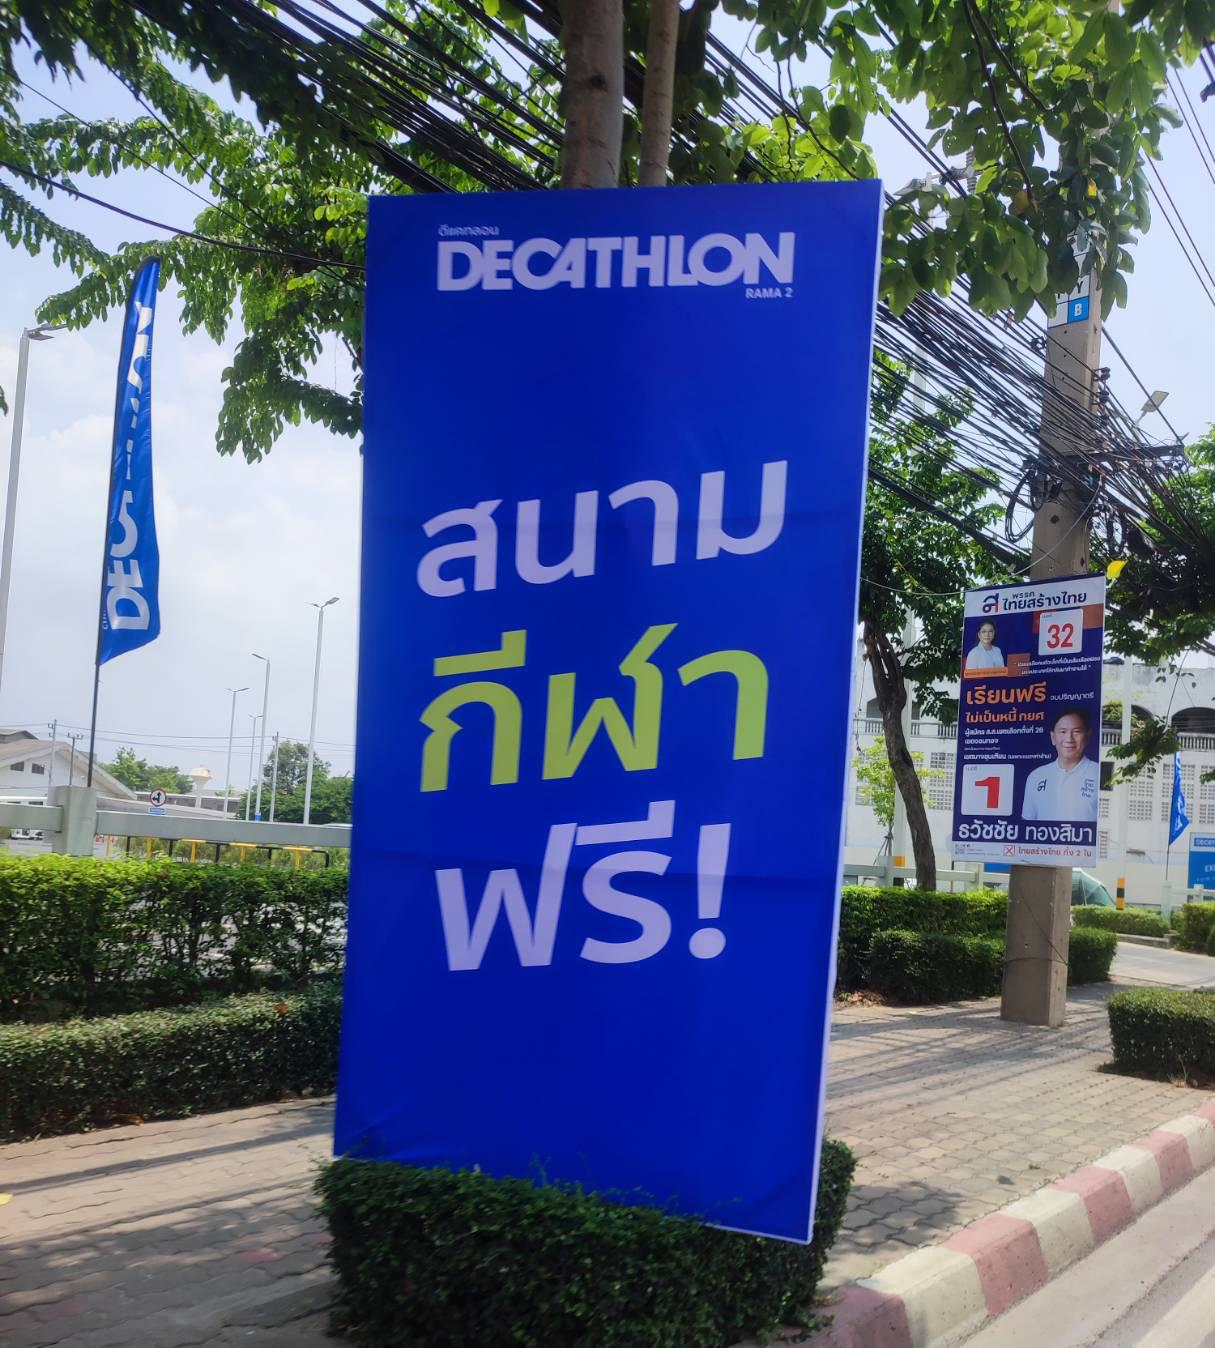Banner: (961, 578, 1104, 859)
